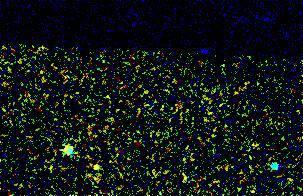star: (82, 150, 112, 180)
